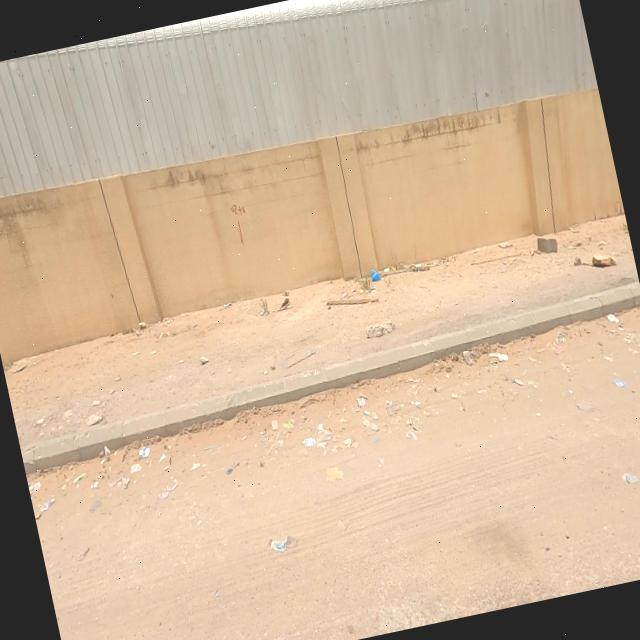Graffiti: (230, 202, 254, 245)
